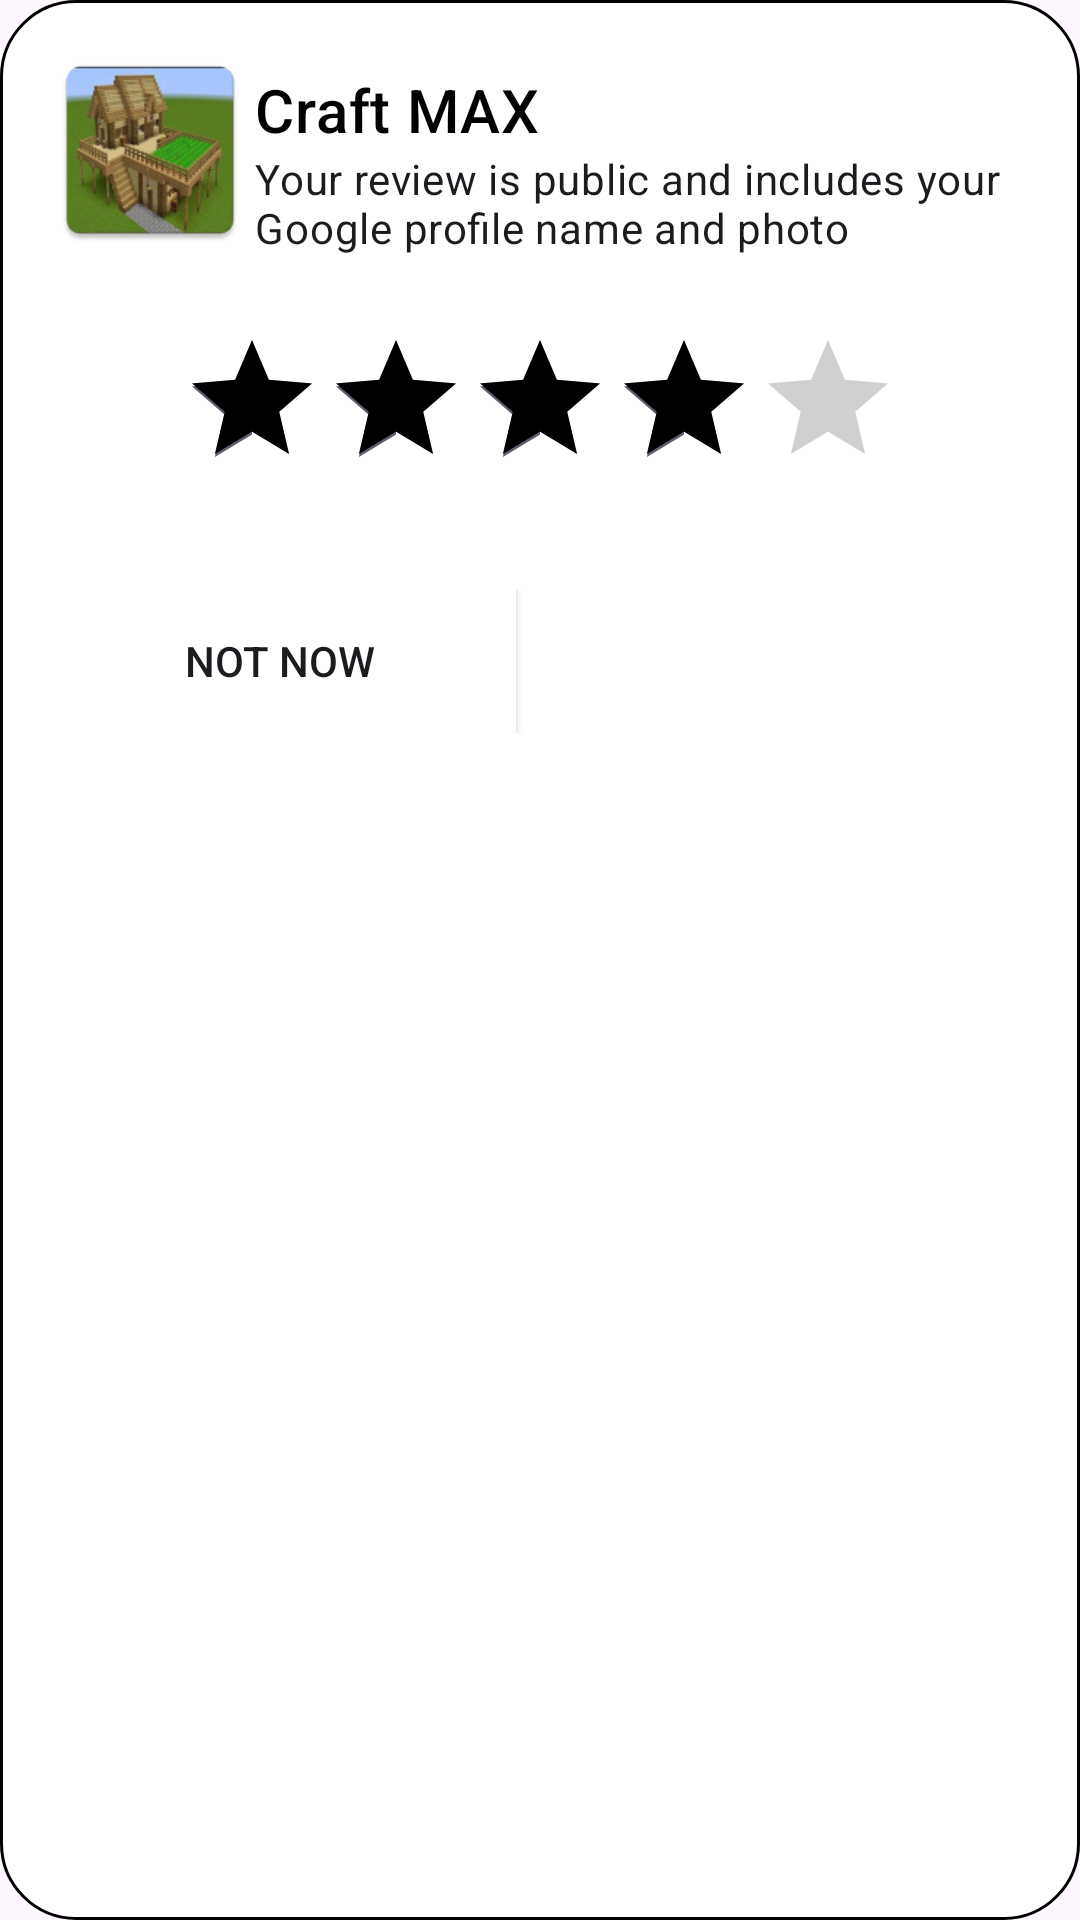

Named icons in this screenshot (1080w x 1920h) and their centers, (x,y):
app: (150,152)
